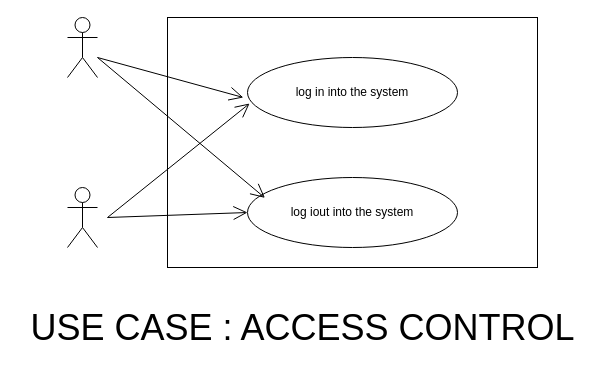
This 604x375 diagram has some shape labels left out. The centre of each missing label's shape, as x and y in pixels:
"Buyer" goes at point (82, 47).
"SysAdmin" goes at point (82, 217).
